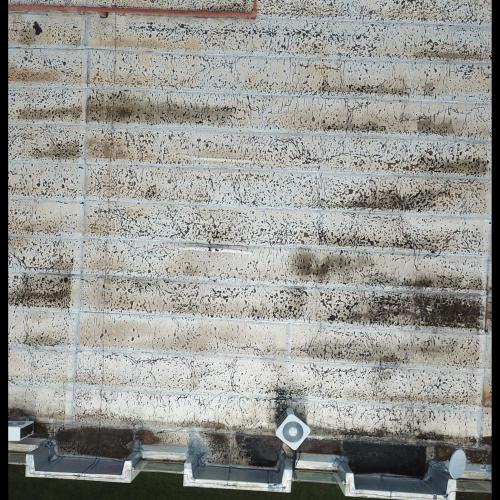conde: (275, 405, 313, 452), (9, 418, 38, 444)
